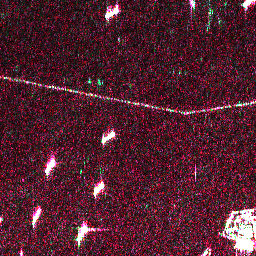ship: (73, 222, 90, 244), (29, 205, 44, 227), (102, 5, 121, 22), (43, 156, 58, 177), (99, 128, 117, 145), (90, 179, 106, 197), (240, 1, 255, 11)
